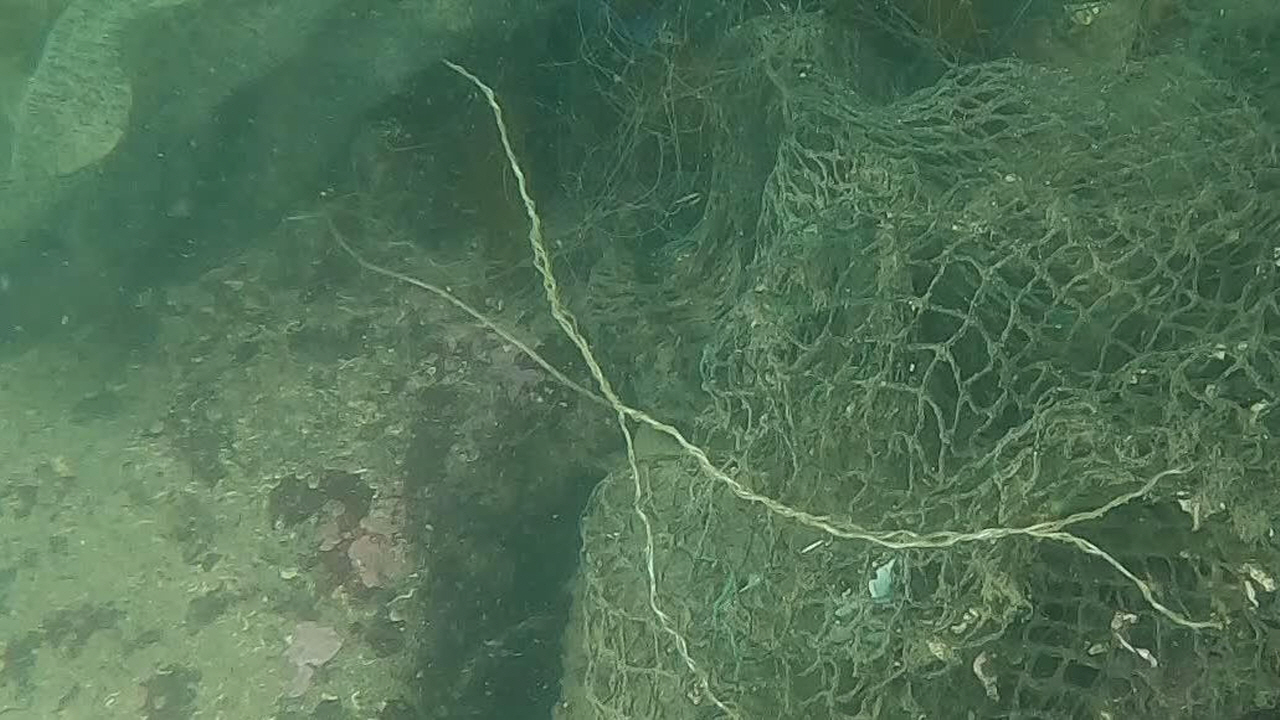fish net: (574, 0, 1280, 720)
